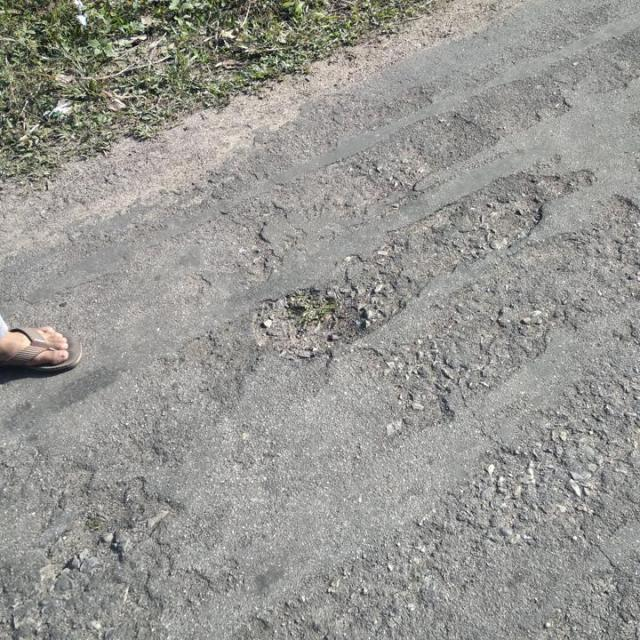pothole: (254, 284, 385, 364)
